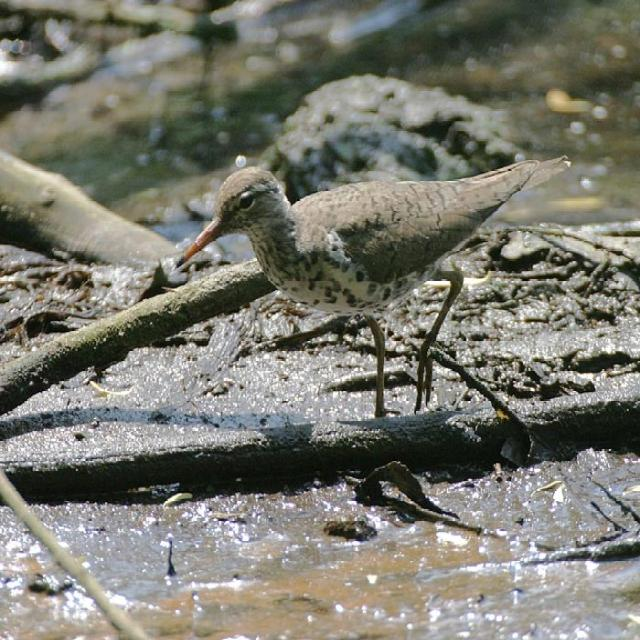bird: (185, 141, 573, 412)
